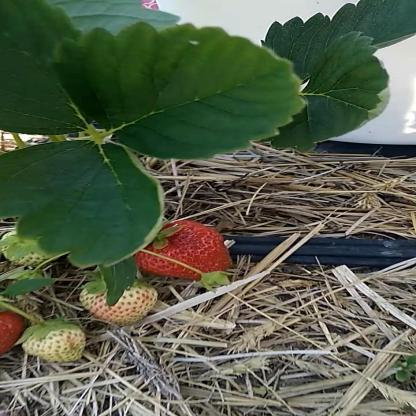ripe: (124, 219, 242, 285), (0, 304, 26, 358)
unripe: (77, 279, 160, 329), (12, 320, 104, 365), (2, 230, 66, 267)
